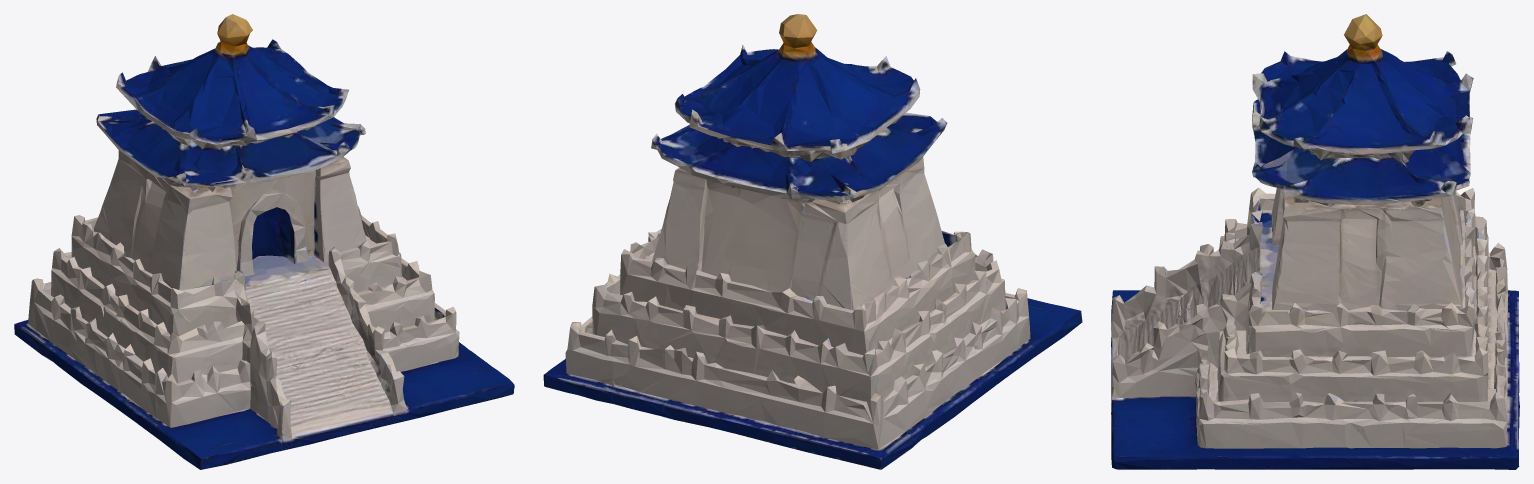
File: cks-memorial-hall.glb
The picture shows the model from 3 angles, left to right: view 1: azimuth 30°, elevation 25°; view 2: azimuth 150°, elevation 25°; view 3: azimuth 270°, elevation 25°; orthographic projection. The views are drawn at different scales.
Visible parts, largest first — view 1: logan-textured.obj; view 2: logan-textured.obj; view 3: logan-textured.obj.
Part boxes in pixels (<box>): logan-textured.obj: <box>14,14,514,469</box>; logan-textured.obj: <box>543,14,1082,469</box>; logan-textured.obj: <box>1111,14,1519,469</box>.
Bounding box in the file's own units: 0.9739 × 0.9899 × 1.
1 material, 1 textured.
